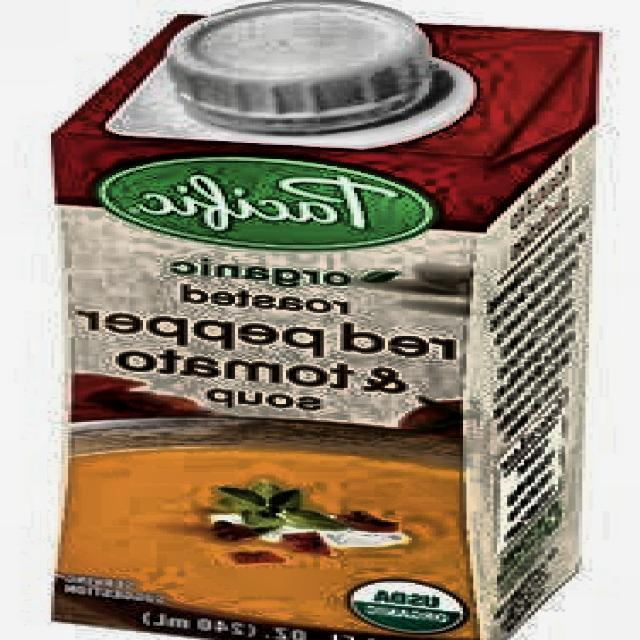cardboard: (48, 3, 603, 640)
